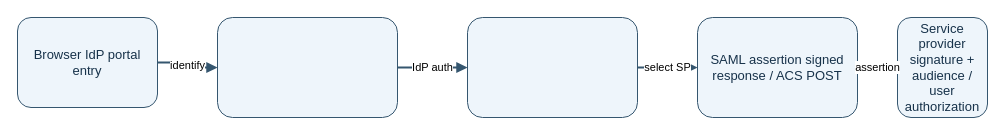
Some shapes in this 1005 by 135 pixel diagram are drawn without their labels. Here are the shapes that lost their labels. From the top down, the centre of each, then its label:
At pixel 307 67: "FIDO gate username-only start / FIDO / password".
At pixel 552 67: "SP selector user/group filter / SP enabled".
